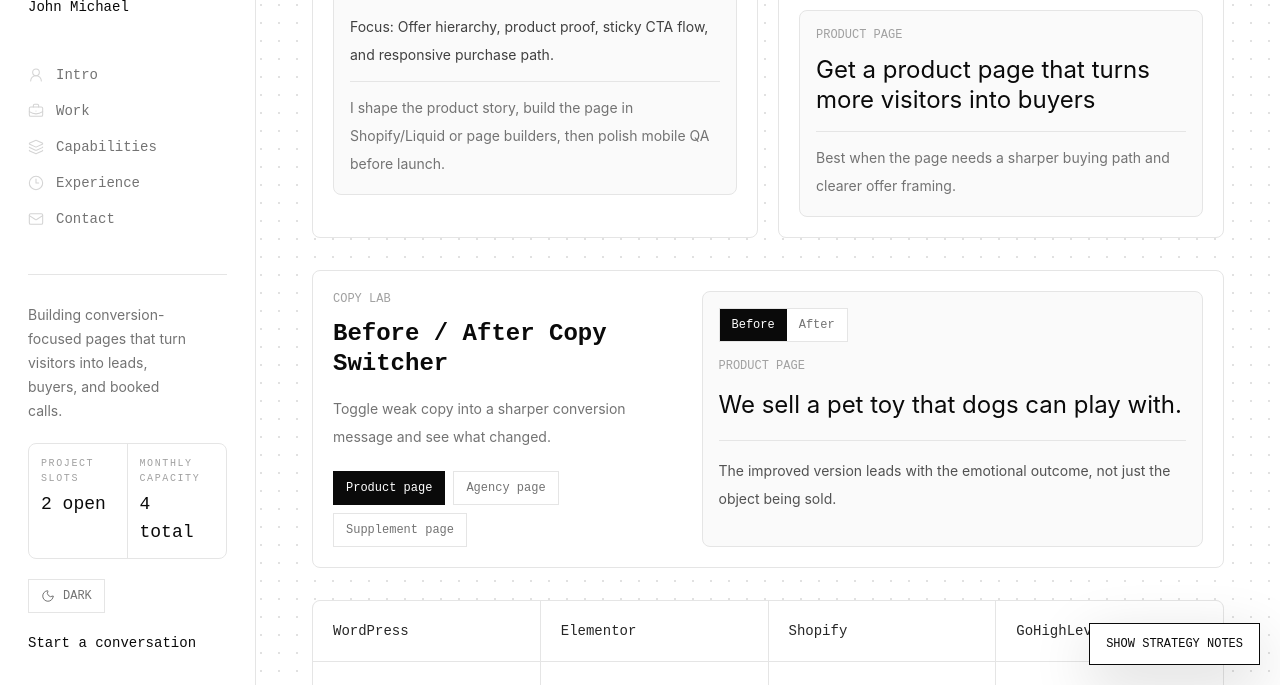
Portfolio landing page › lets visitors switch weak copy into conversion-focused copy
The width and height of the screenshot is (1280, 685).
(page scrolled)
expect the heading "Before / After Copy Switcher" is shown: met, box [333, 320, 607, 377]
expect the text "We sell a pet toy that dogs can play with." is shown: met, box [718, 390, 1186, 420]
What coordinates should you click on to do the following:
click the button "After"
I would click on:
 (817, 325)
Its box is [787, 309, 847, 341].
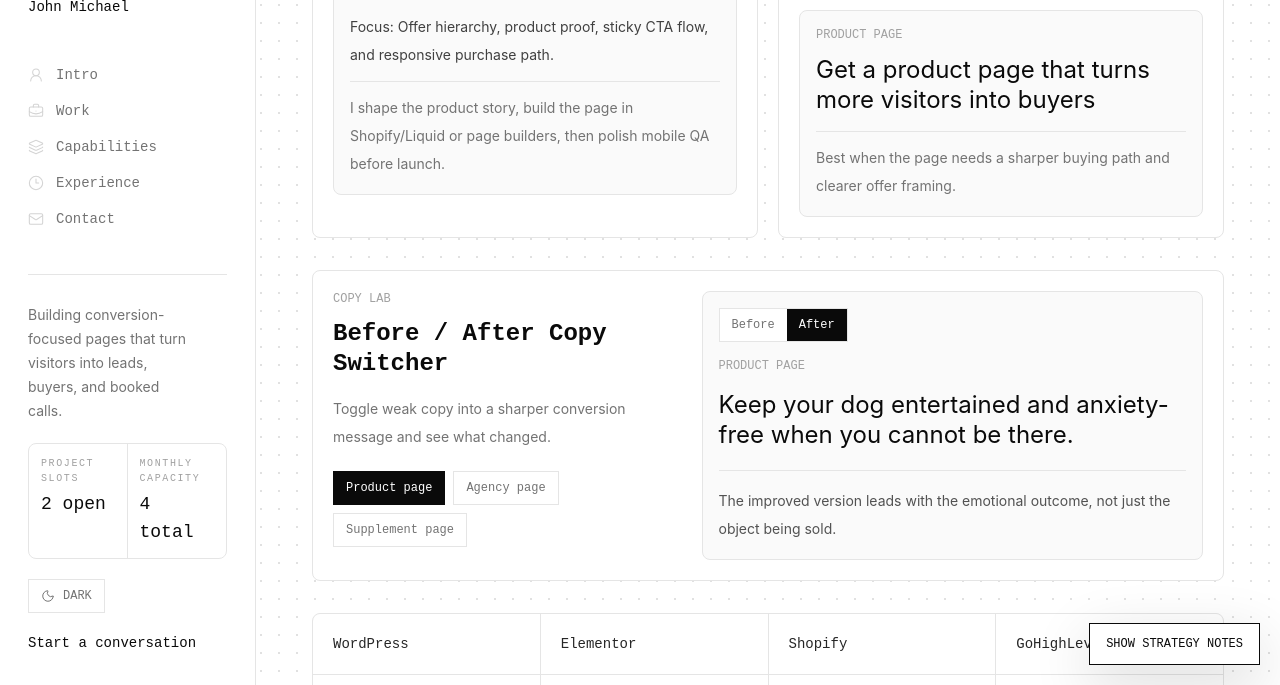
expect the text "Keep your dog entertained and anxiety-free" is shown: met, box [718, 390, 1169, 449]
expect the text "We sell a pet toy that dogs can play with" is gone: met
What coordinates should you click on to do the following:
click the button with aria-label "supplement page example"
I would click on:
 (400, 530)
Its box is [333, 513, 467, 547].
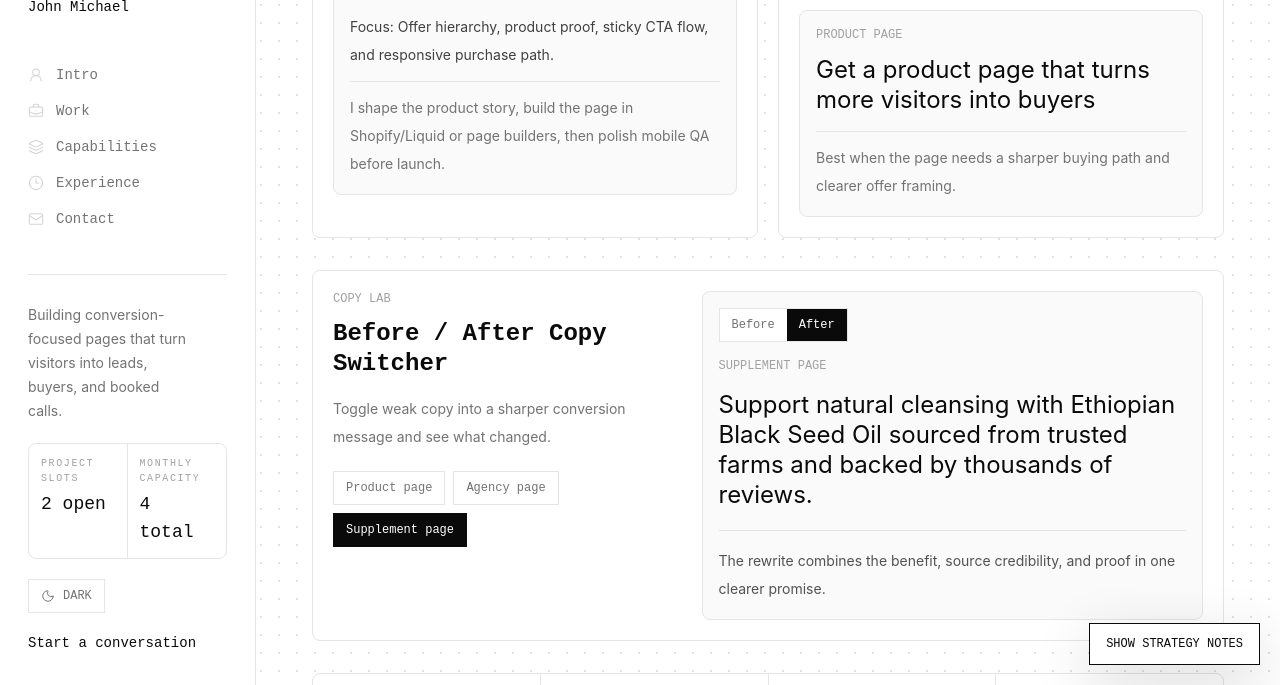
expect the text "Support natural cleansing with Ethiopian Black Seed Oil" is shown: met, box [718, 390, 1175, 509]
